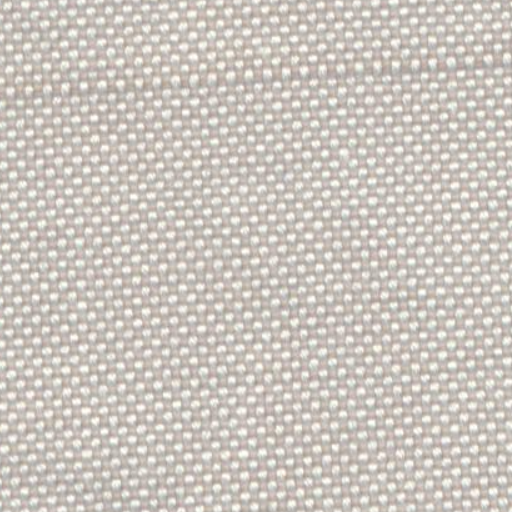TuoSha: (16, 39, 496, 118)
